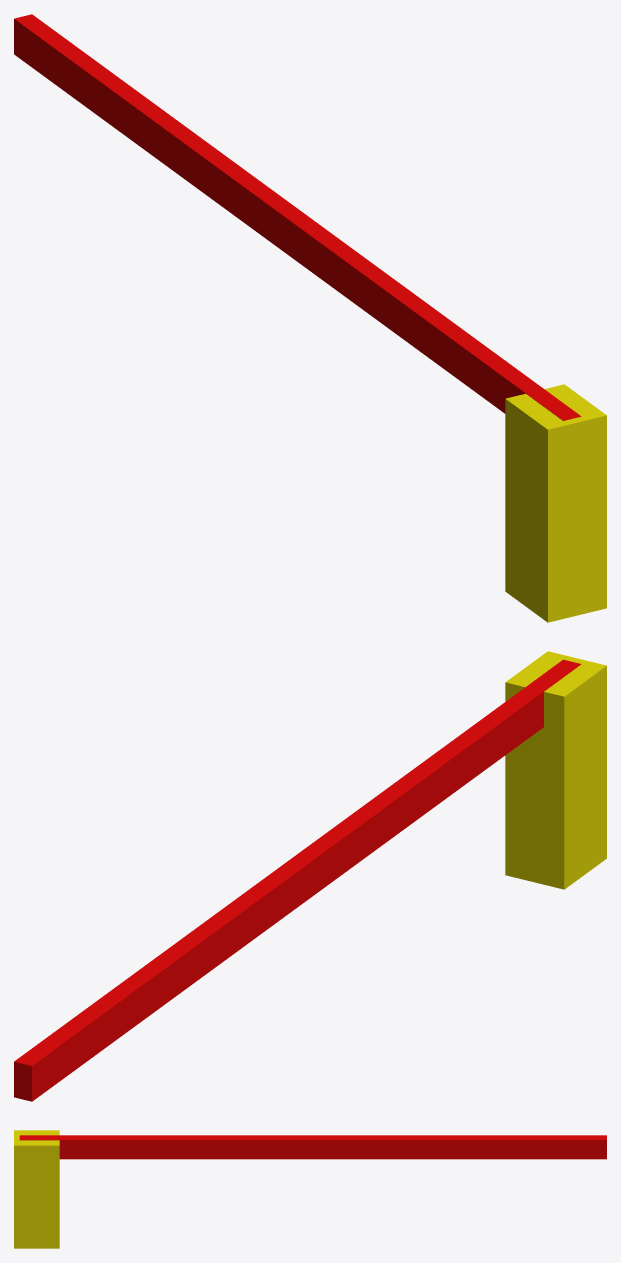
Rendered from Stop.fbx.
3 renders of one model, top to bottom at view 1: azimuth 30°, elevation 25°; view 2: azimuth 150°, elevation 25°; view 3: azimuth 270°, elevation 25°, orthographic. The views are drawn at different scales.
Visible parts, largest first — view 1: Cube.001, Cube; view 2: Cube.001, Cube; view 3: Cube.001, Cube.
Part boxes in pixels (left/top/right/bottom): Cube.001: left=14, top=14, right=581, bottom=420; Cube: left=505, top=384, right=606, bottom=622; Cube.001: left=14, top=659, right=581, bottom=1101; Cube: left=505, top=651, right=606, bottom=889; Cube.001: left=19, top=1135, right=606, bottom=1159; Cube: left=14, top=1130, right=59, bottom=1248.
Bounding box in the file's own units: 0.1252 × 2.03 × 0.3914.
